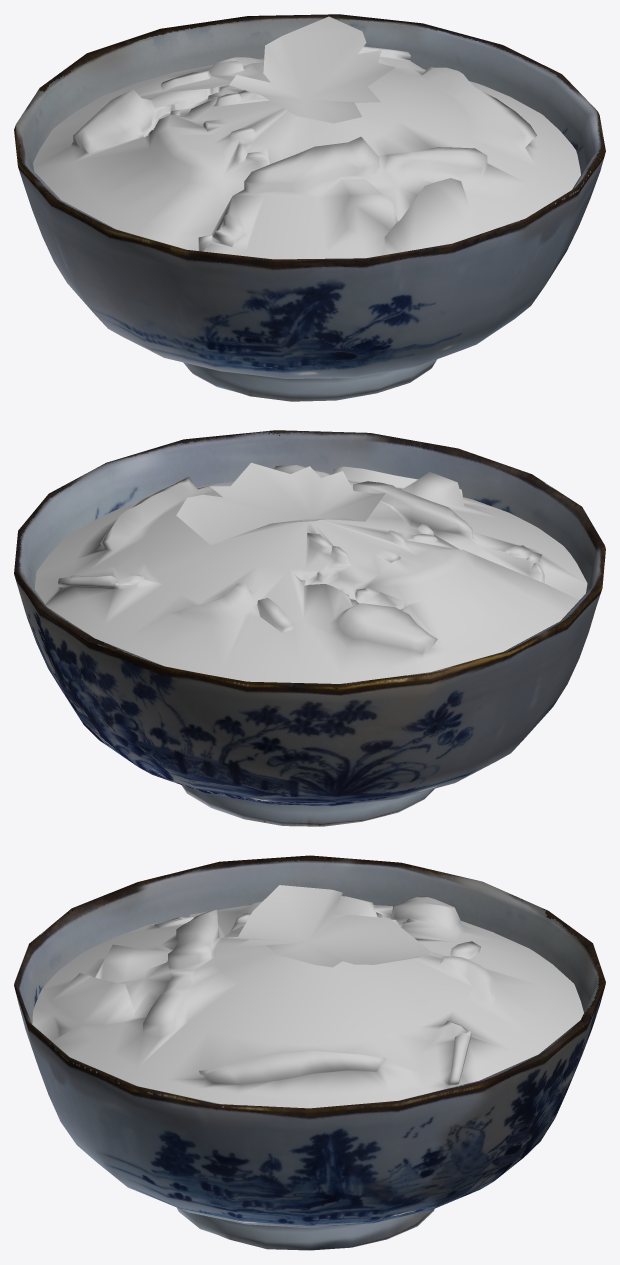
Rendered from YoFan.fbx.
The picture shows the model from 3 angles, top to bottom: view 1: azimuth 30°, elevation 25°; view 2: azimuth 150°, elevation 25°; view 3: azimuth 270°, elevation 25°; orthographic projection.
Visible parts, largest first — view 1: YoFan; view 2: YoFan; view 3: YoFan.
Part boxes in pixels (x1=…): YoFan: x1=14, y1=14, x2=605, y2=401; YoFan: x1=14, y1=430, x2=605, y2=826; YoFan: x1=14, y1=855, x2=605, y2=1250.
Bounding box in the file's own units: 18.4 × 9.52 × 18.23.
